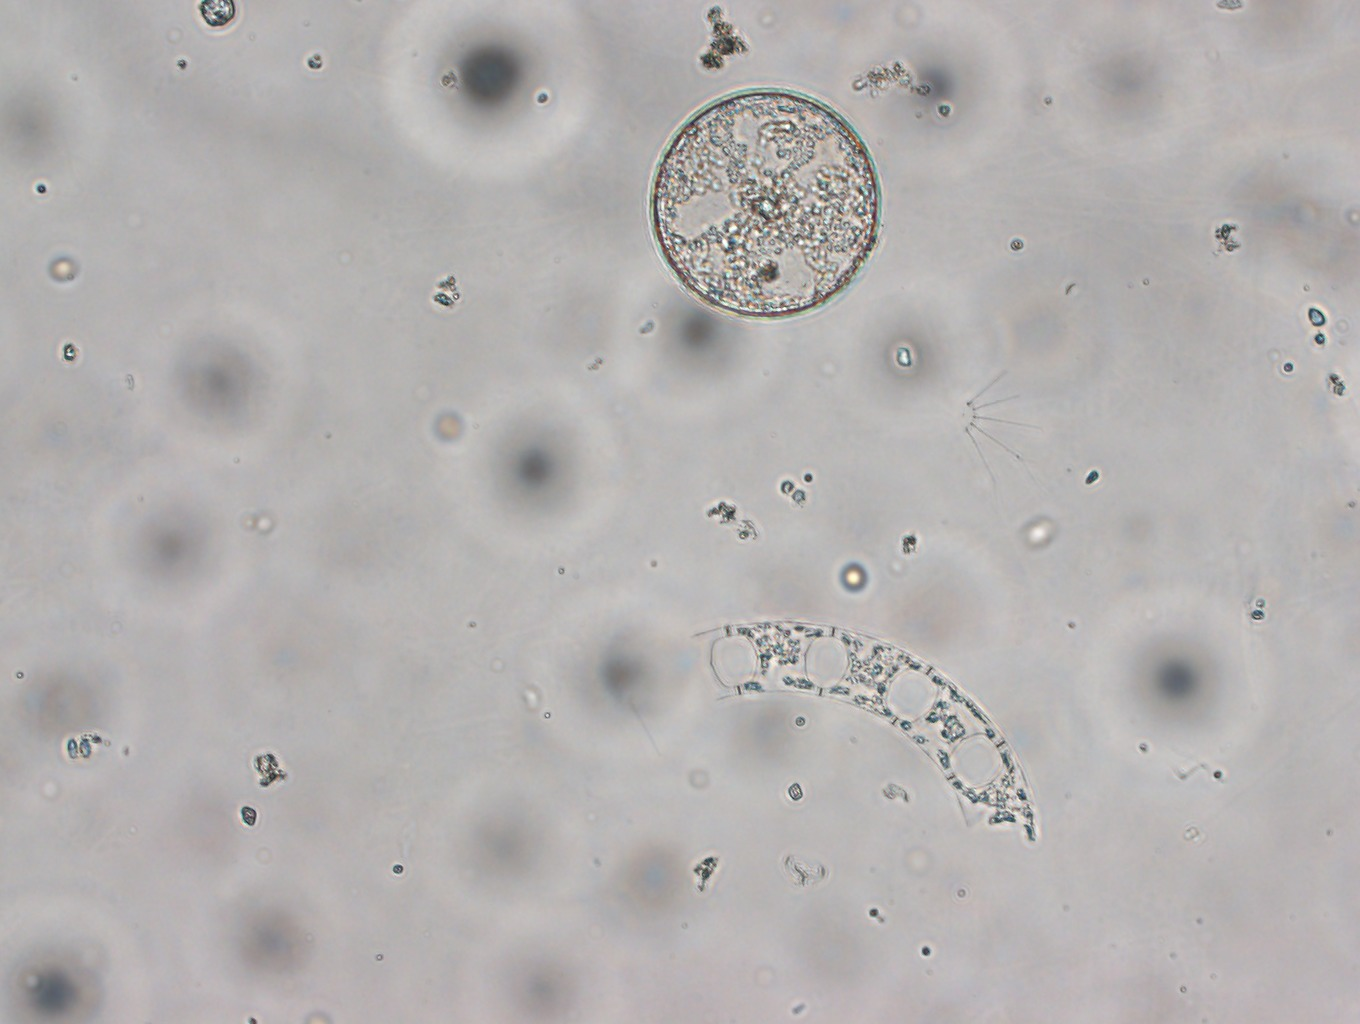coscinodiscus: (646, 87, 881, 322)
eucampia: (686, 616, 1036, 852)
